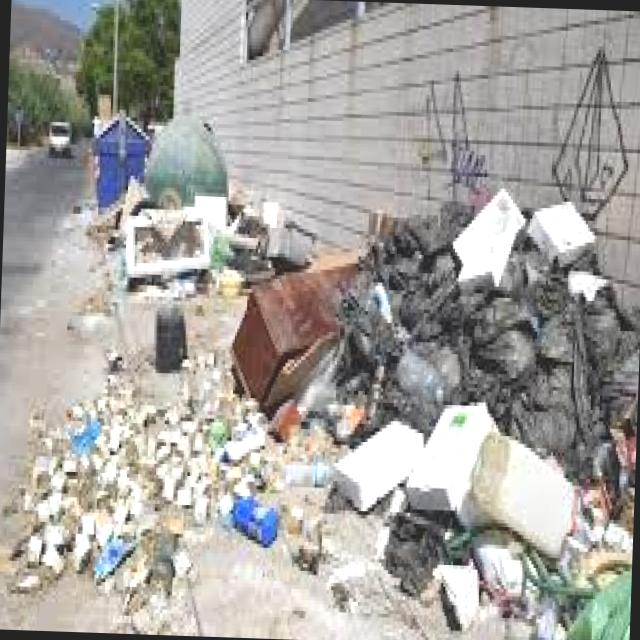garbage: (18, 139, 640, 640)
